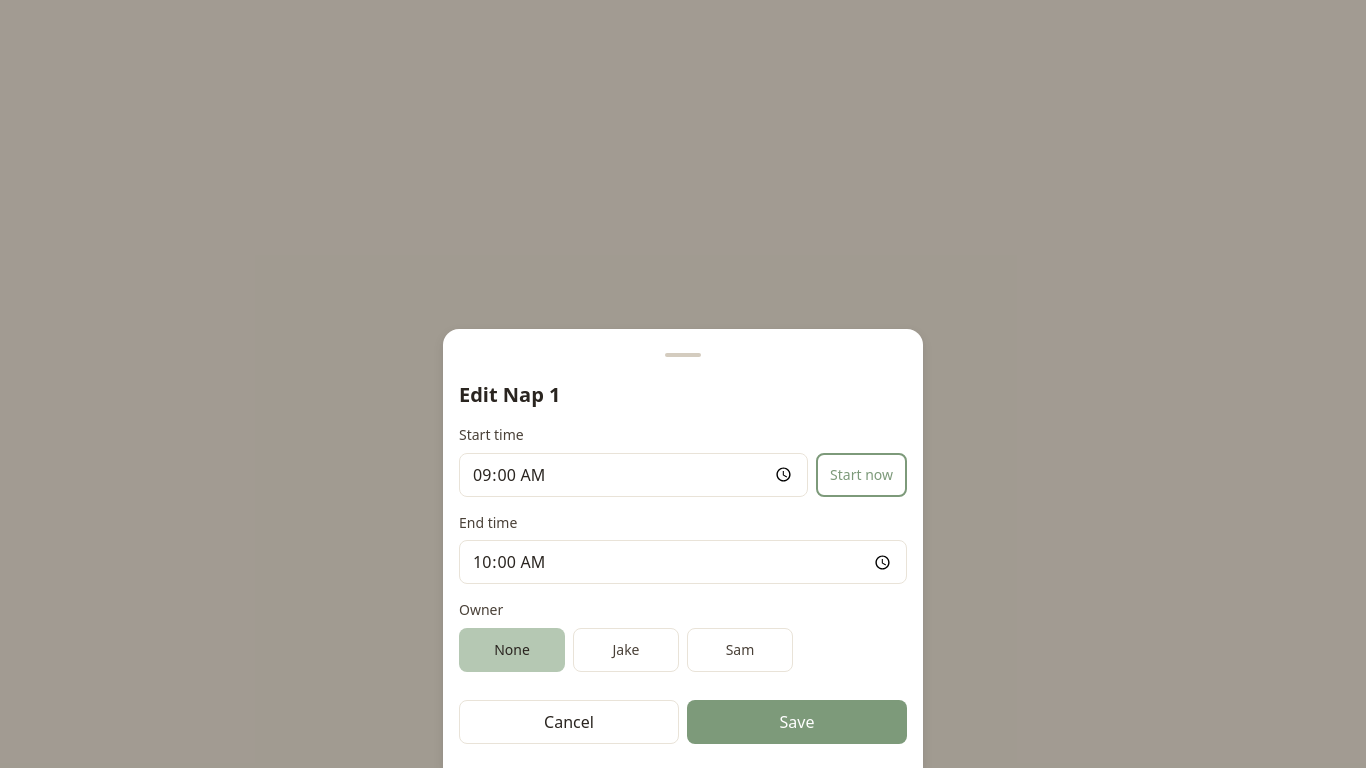
Test: Drawer now-shortcut buttons › Start now (nap, preserves duration) › fills startTime with Now and shifts endTime to keep the existing duration
Step 1. Click the button "Start now" → [862, 475], box [816, 453, 907, 497]
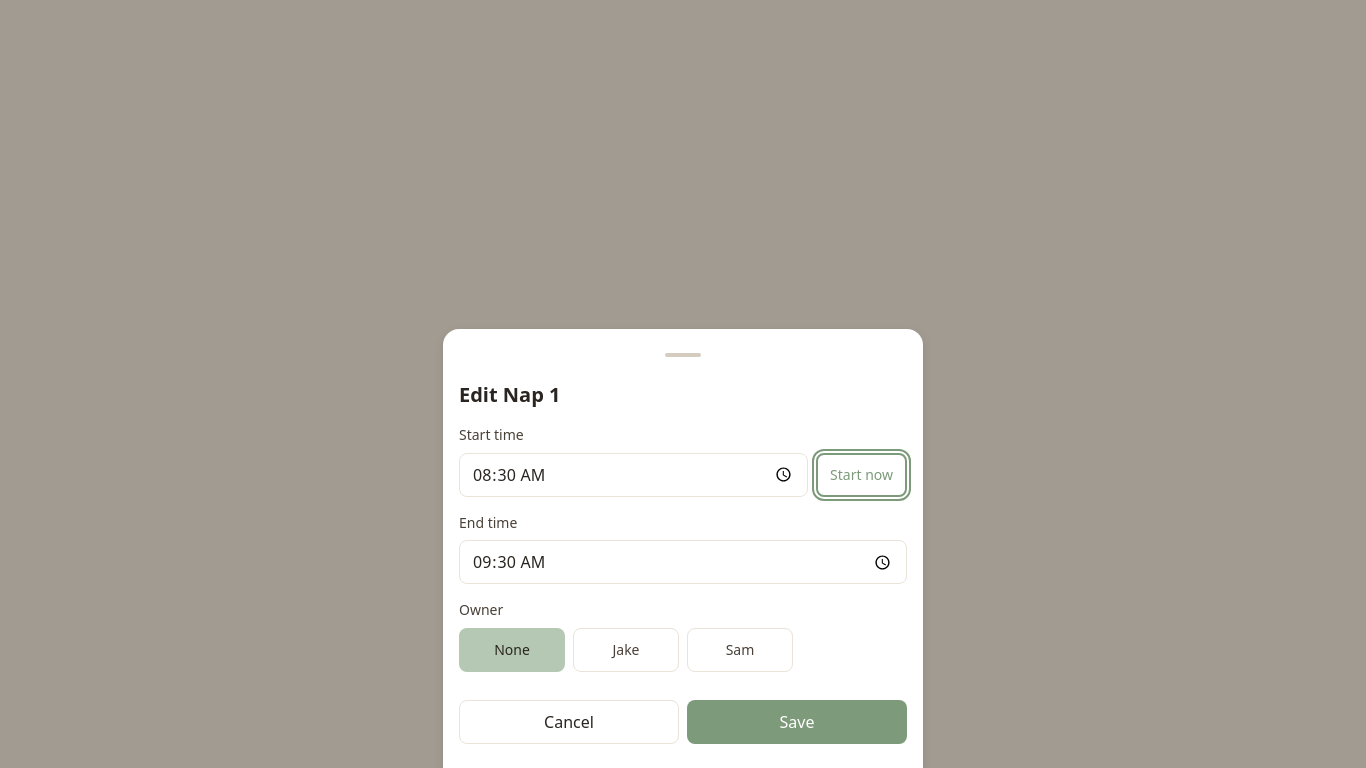
Result: the time field labelled "Start time" holds "08:30" at [459, 453, 808, 497]
